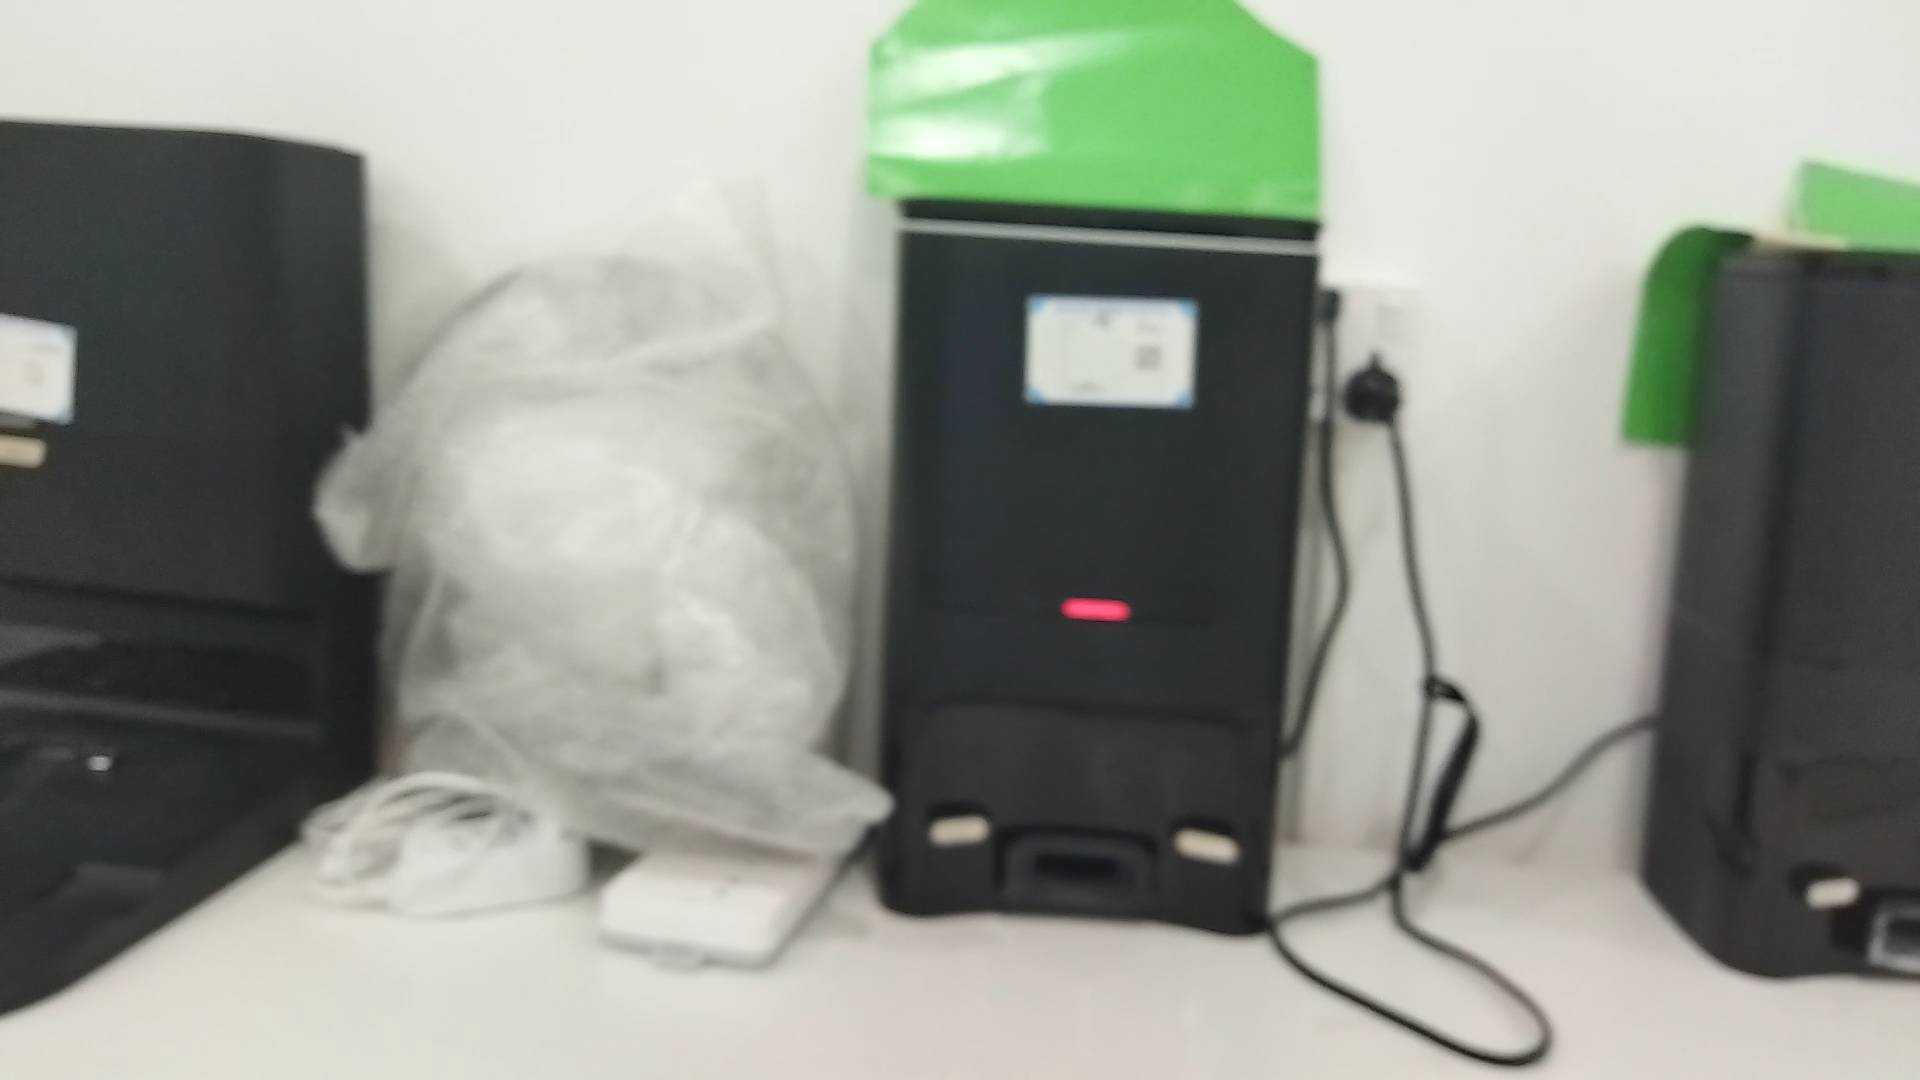dust collecting barrel: (1, 117, 373, 1025), (876, 196, 1323, 928), (1644, 249, 1920, 978)
